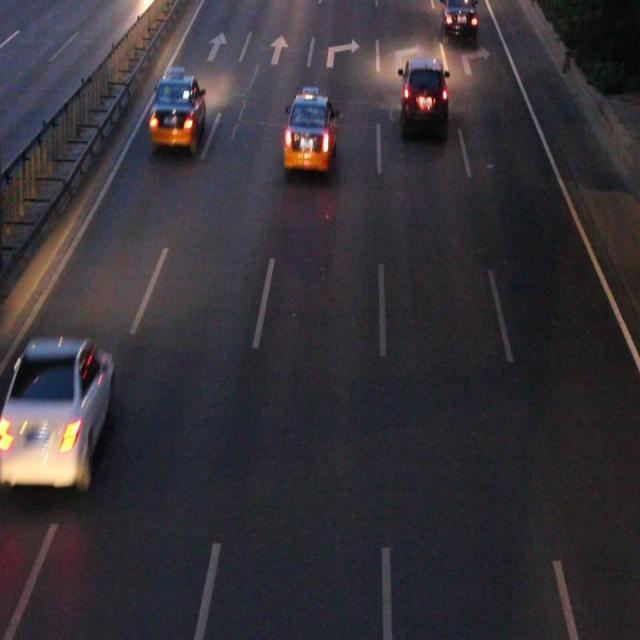car: (0, 342, 110, 484), (150, 77, 204, 148), (284, 95, 335, 166), (401, 60, 446, 133), (442, 1, 474, 40)
